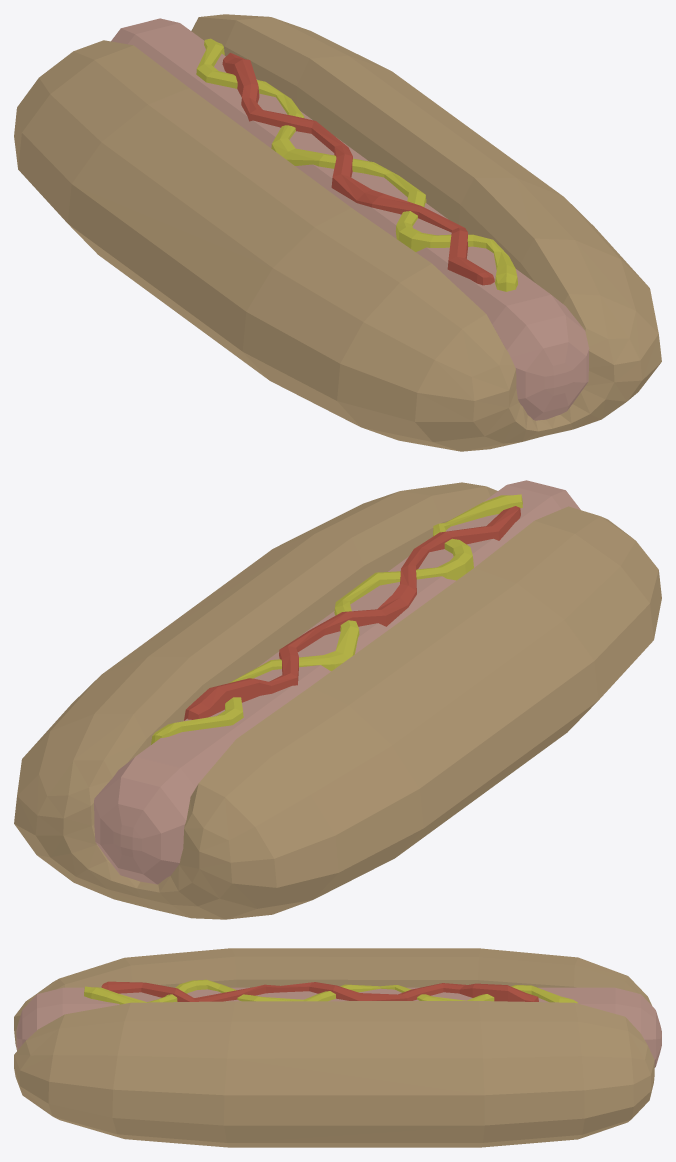
Rendered from Hotdog.glb.
3 views of the same model, one above another, from view 1: azimuth 30°, elevation 25°; view 2: azimuth 150°, elevation 25°; view 3: azimuth 270°, elevation 25° (orthographic). The views are drawn at different scales.
Visible parts, largest first — view 1: Hotdog; view 2: Hotdog; view 3: Hotdog.
Part boxes in pixels (<box>): Hotdog: <box>14,14,661,451</box>; Hotdog: <box>14,480,661,919</box>; Hotdog: <box>14,948,661,1147</box>.
Bounding box in the file's own units: 0.7852 × 0.4094 × 1.66.
